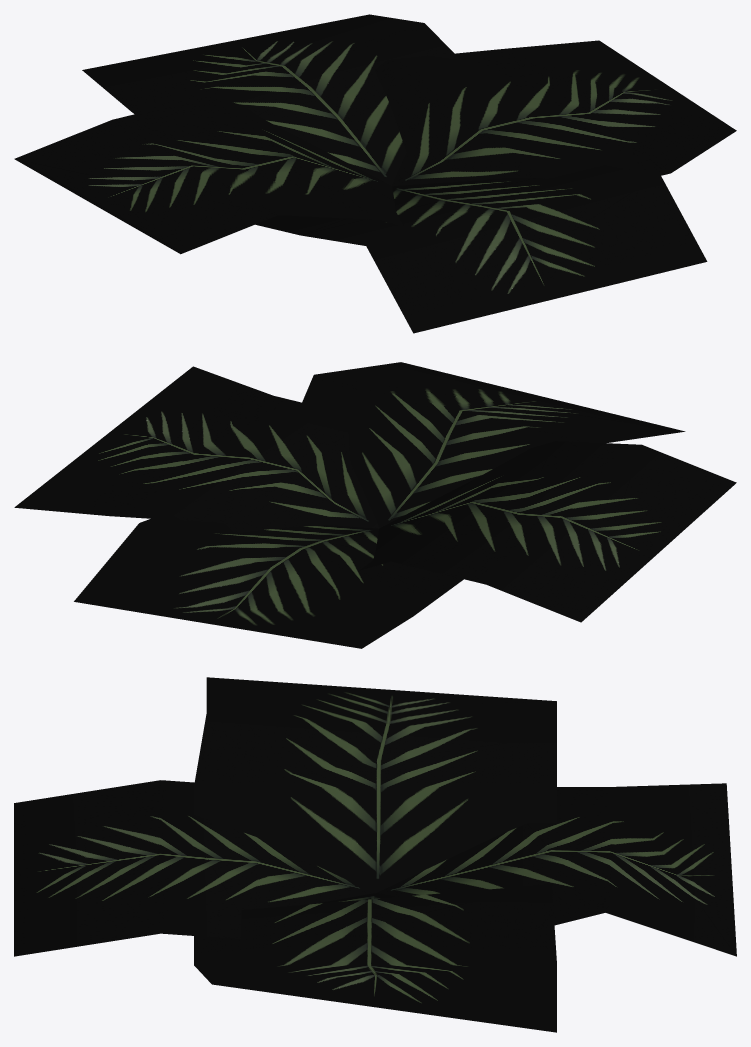
File: Grass2.fbx
The picture shows the model from 3 angles, top to bottom: view 1: azimuth 30°, elevation 25°; view 2: azimuth 150°, elevation 25°; view 3: azimuth 270°, elevation 25°; orthographic projection. The views are drawn at different scales.
Parts seen in each view (by area): view 1: Plane.003; view 2: Plane.003; view 3: Plane.003.
Part boxes in pixels (x1,y1,x2,y2): Plane.003: (14,14,736,333); Plane.003: (14,362,736,648); Plane.003: (14,677,736,1032).
Bounding box in the file's own units: 398 × 49.41 × 398.
